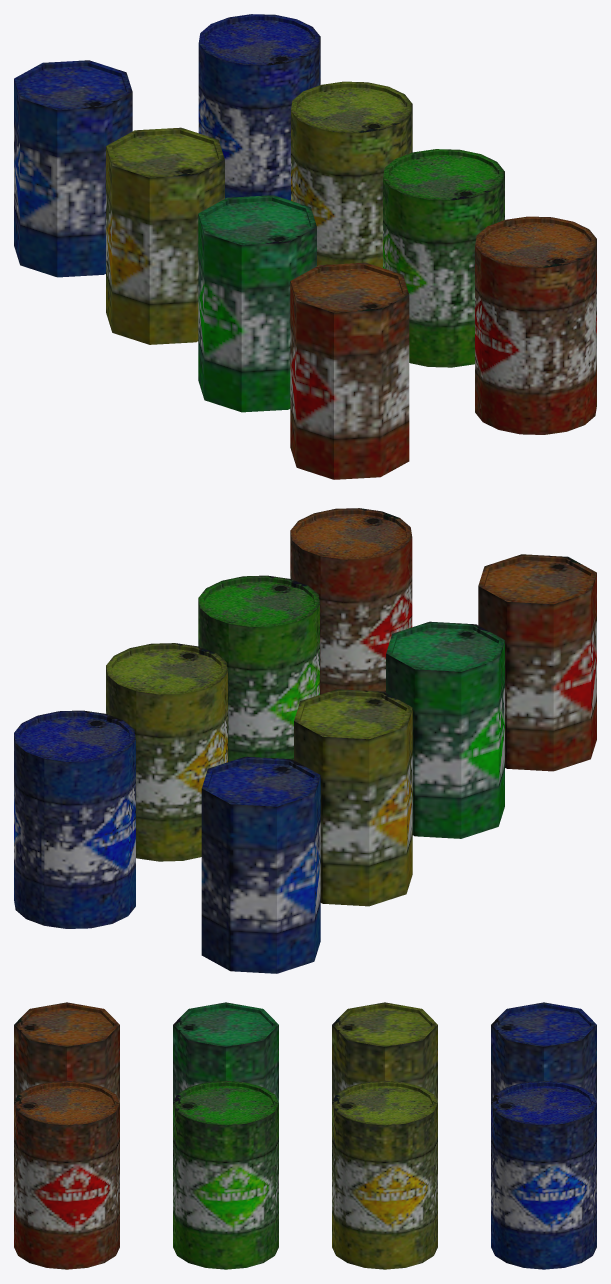
The model's file is barrel.glb.
3 renders of one model, top to bottom at view 1: azimuth 30°, elevation 25°; view 2: azimuth 150°, elevation 25°; view 3: azimuth 270°, elevation 25°, orthographic. The views are drawn at different scales.
Visible parts, largest first — view 1: Red_Barrel_High, Red_Barrel_Low, Green_Barrel_Low, Yellow_Barrel_Low, Blue_Barrel_Low, Green_Barrel_High, Blue_Barrel_High, Yellow_Barrel_High; view 2: Blue_Barrel_High, Blue_Barrel_Low, Yellow_Barrel_Low, Green_Barrel_Low, Red_Barrel_Low, Yellow_Barrel_High, Red_Barrel_High, Green_Barrel_High; view 3: Yellow_Barrel_High, Green_Barrel_High, Blue_Barrel_High, Red_Barrel_High, Blue_Barrel_Low, Red_Barrel_Low, Yellow_Barrel_Low, Green_Barrel_Low.
Boxes of the visible parts, bbox=[...] form: Red_Barrel_High: bbox=[475, 216, 596, 434]; Red_Barrel_Low: bbox=[290, 262, 409, 479]; Green_Barrel_Low: bbox=[198, 195, 316, 412]; Yellow_Barrel_Low: bbox=[106, 127, 224, 344]; Blue_Barrel_Low: bbox=[14, 60, 132, 277]; Green_Barrel_High: bbox=[383, 149, 504, 367]; Blue_Barrel_High: bbox=[198, 14, 320, 200]; Yellow_Barrel_High: bbox=[291, 81, 412, 267]; Blue_Barrel_High: bbox=[14, 710, 135, 928]; Blue_Barrel_Low: bbox=[201, 756, 320, 973]; Yellow_Barrel_Low: bbox=[294, 689, 412, 906]; Green_Barrel_Low: bbox=[386, 621, 504, 838]; Red_Barrel_Low: bbox=[478, 554, 596, 771]; Yellow_Barrel_High: bbox=[106, 643, 227, 861]; Red_Barrel_High: bbox=[290, 508, 412, 694]; Green_Barrel_High: bbox=[198, 575, 319, 761]; Yellow_Barrel_High: bbox=[332, 1080, 437, 1269]; Green_Barrel_High: bbox=[173, 1080, 278, 1269]; Blue_Barrel_High: bbox=[491, 1080, 596, 1269]; Red_Barrel_High: bbox=[14, 1080, 119, 1269]; Blue_Barrel_Low: bbox=[491, 1002, 596, 1102]; Red_Barrel_Low: bbox=[14, 1002, 119, 1102]; Yellow_Barrel_Low: bbox=[332, 1002, 437, 1102]; Green_Barrel_Low: bbox=[173, 1002, 278, 1102].
Bounding box in the file's own units: 5.5 × 3 × 11.
Materials: 8 (8 with a texture image).
